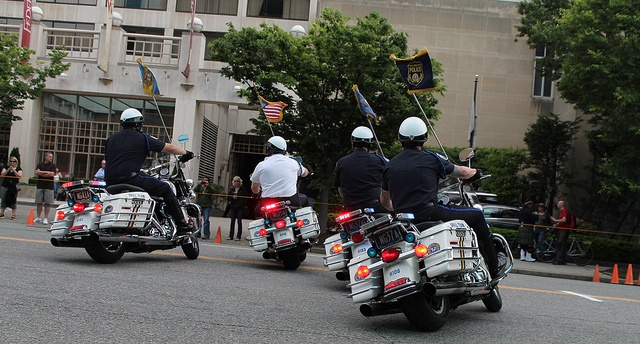non-vehicle: (344, 146, 514, 332), (46, 132, 203, 263), (244, 154, 321, 269), (322, 206, 390, 281)
